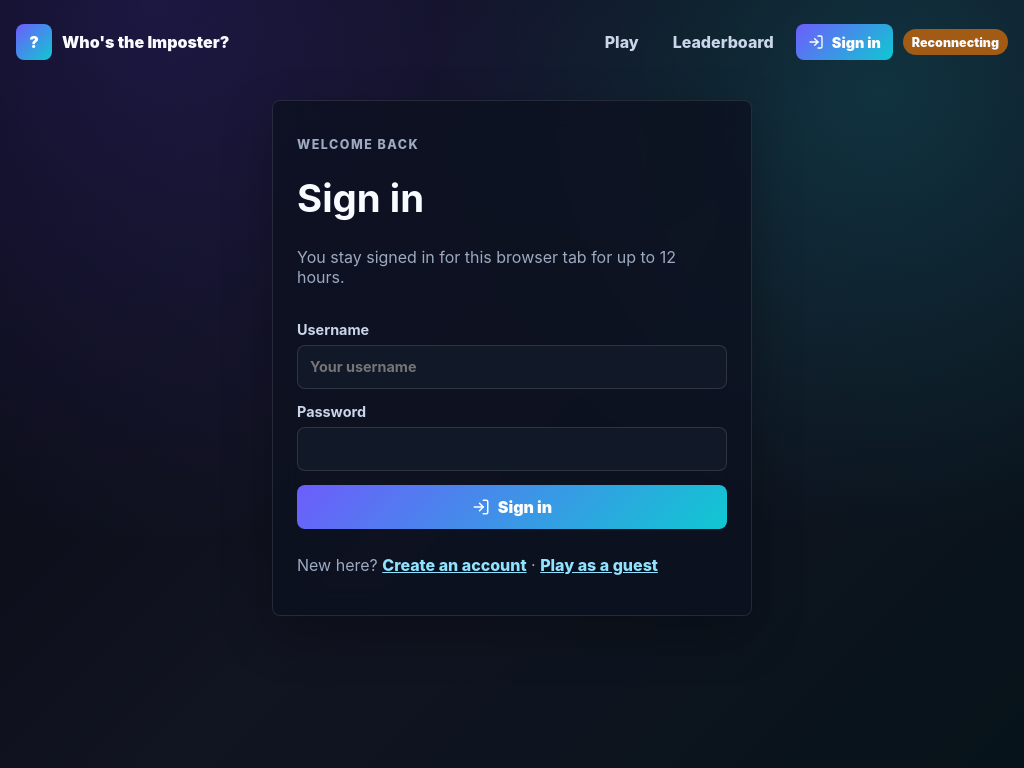
Test: sign in › shows the server's message for a failed sign-in and stays signed out
The image size is (1024, 768).
Step 1. Type "nova_7" into the field labelled "Username" → [512, 367], box left=297, top=345, right=727, bottom=389
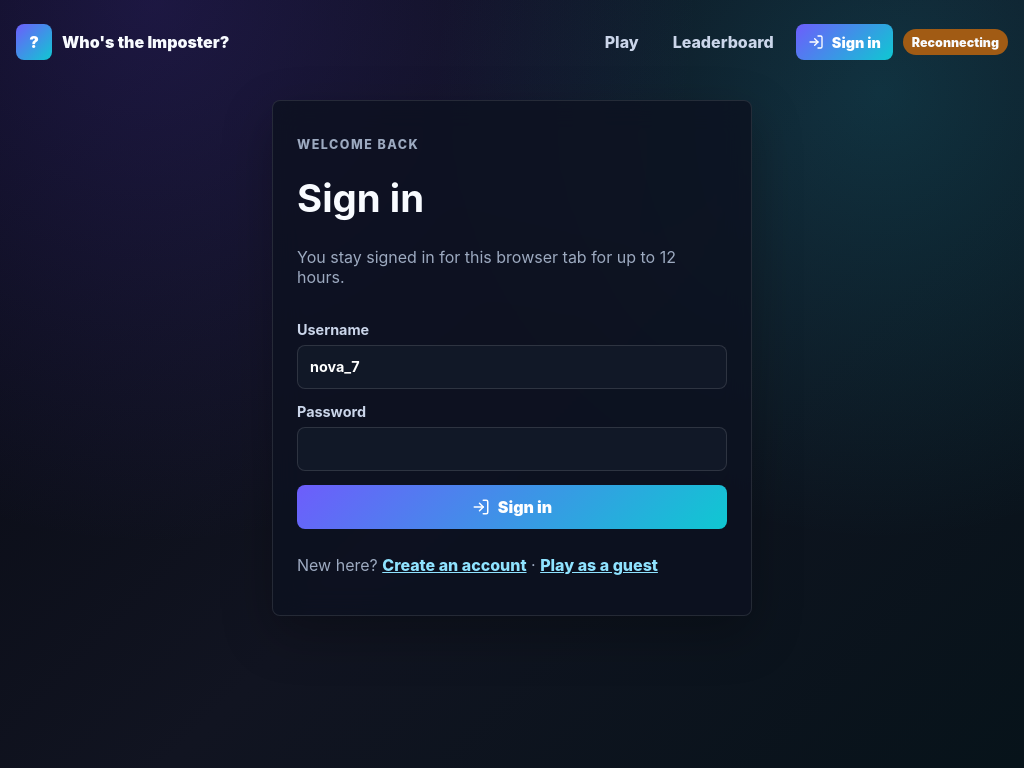
Step 2. Type "wrong" into the password field labelled "Password" → [512, 449], box left=297, top=427, right=727, bottom=471
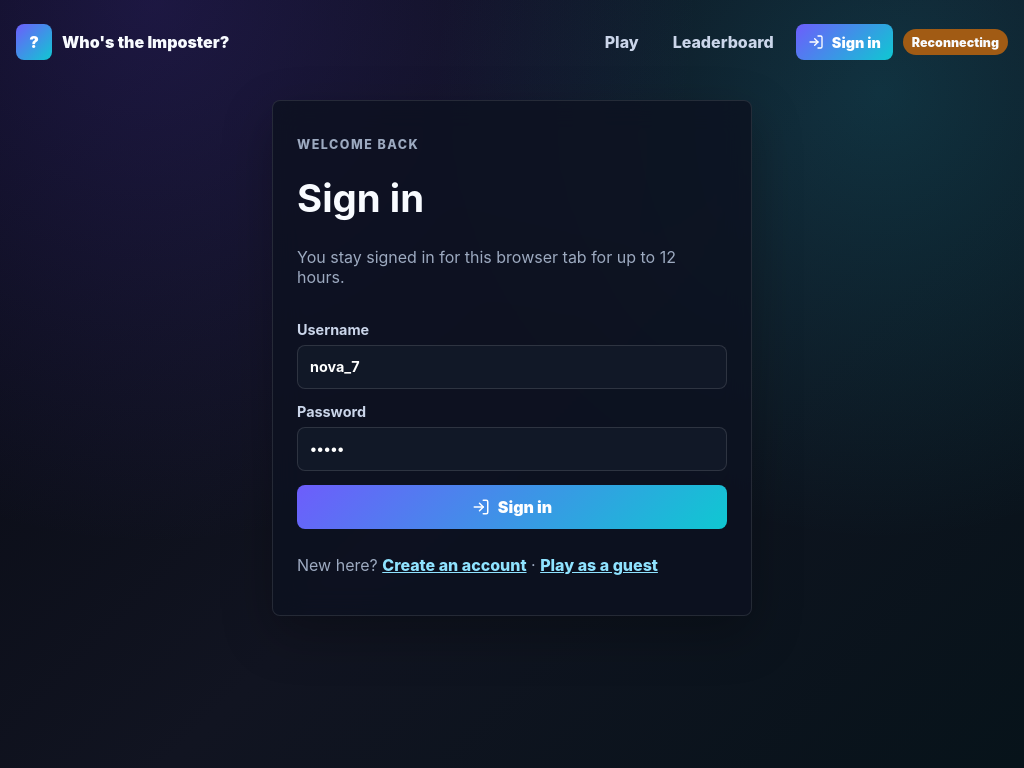
Step 3. Click the button "Sign in" → [512, 507], box left=297, top=485, right=727, bottom=529
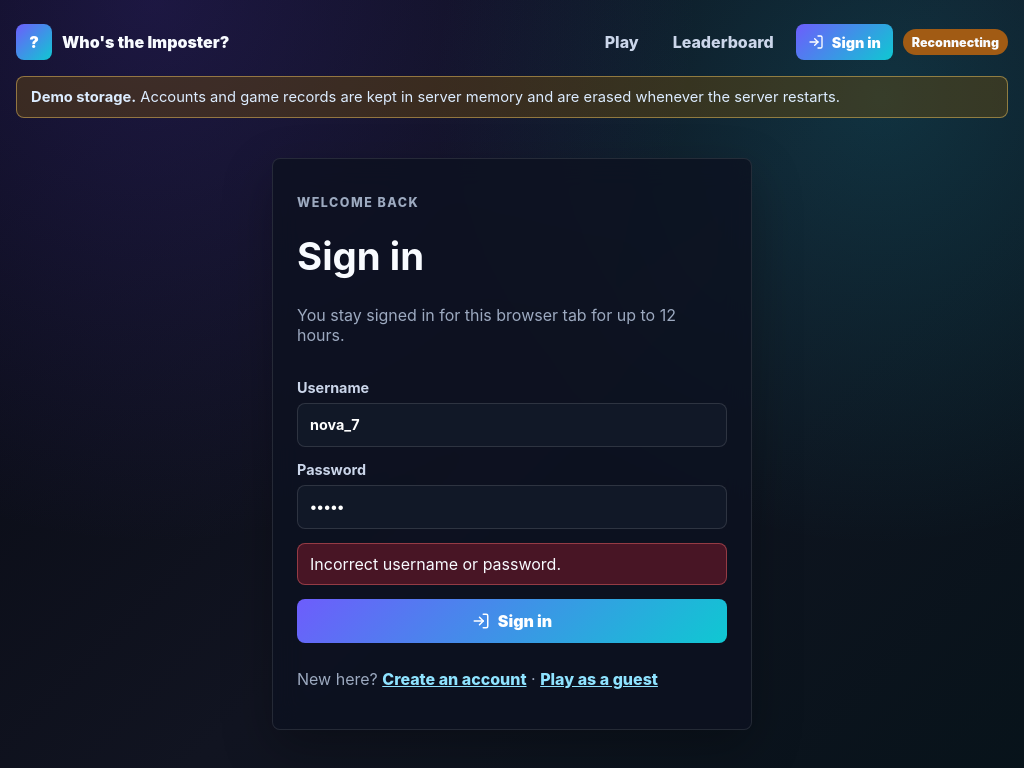
Now the message reads "Incorrect username or password.", box left=310, top=554, right=561, bottom=574
